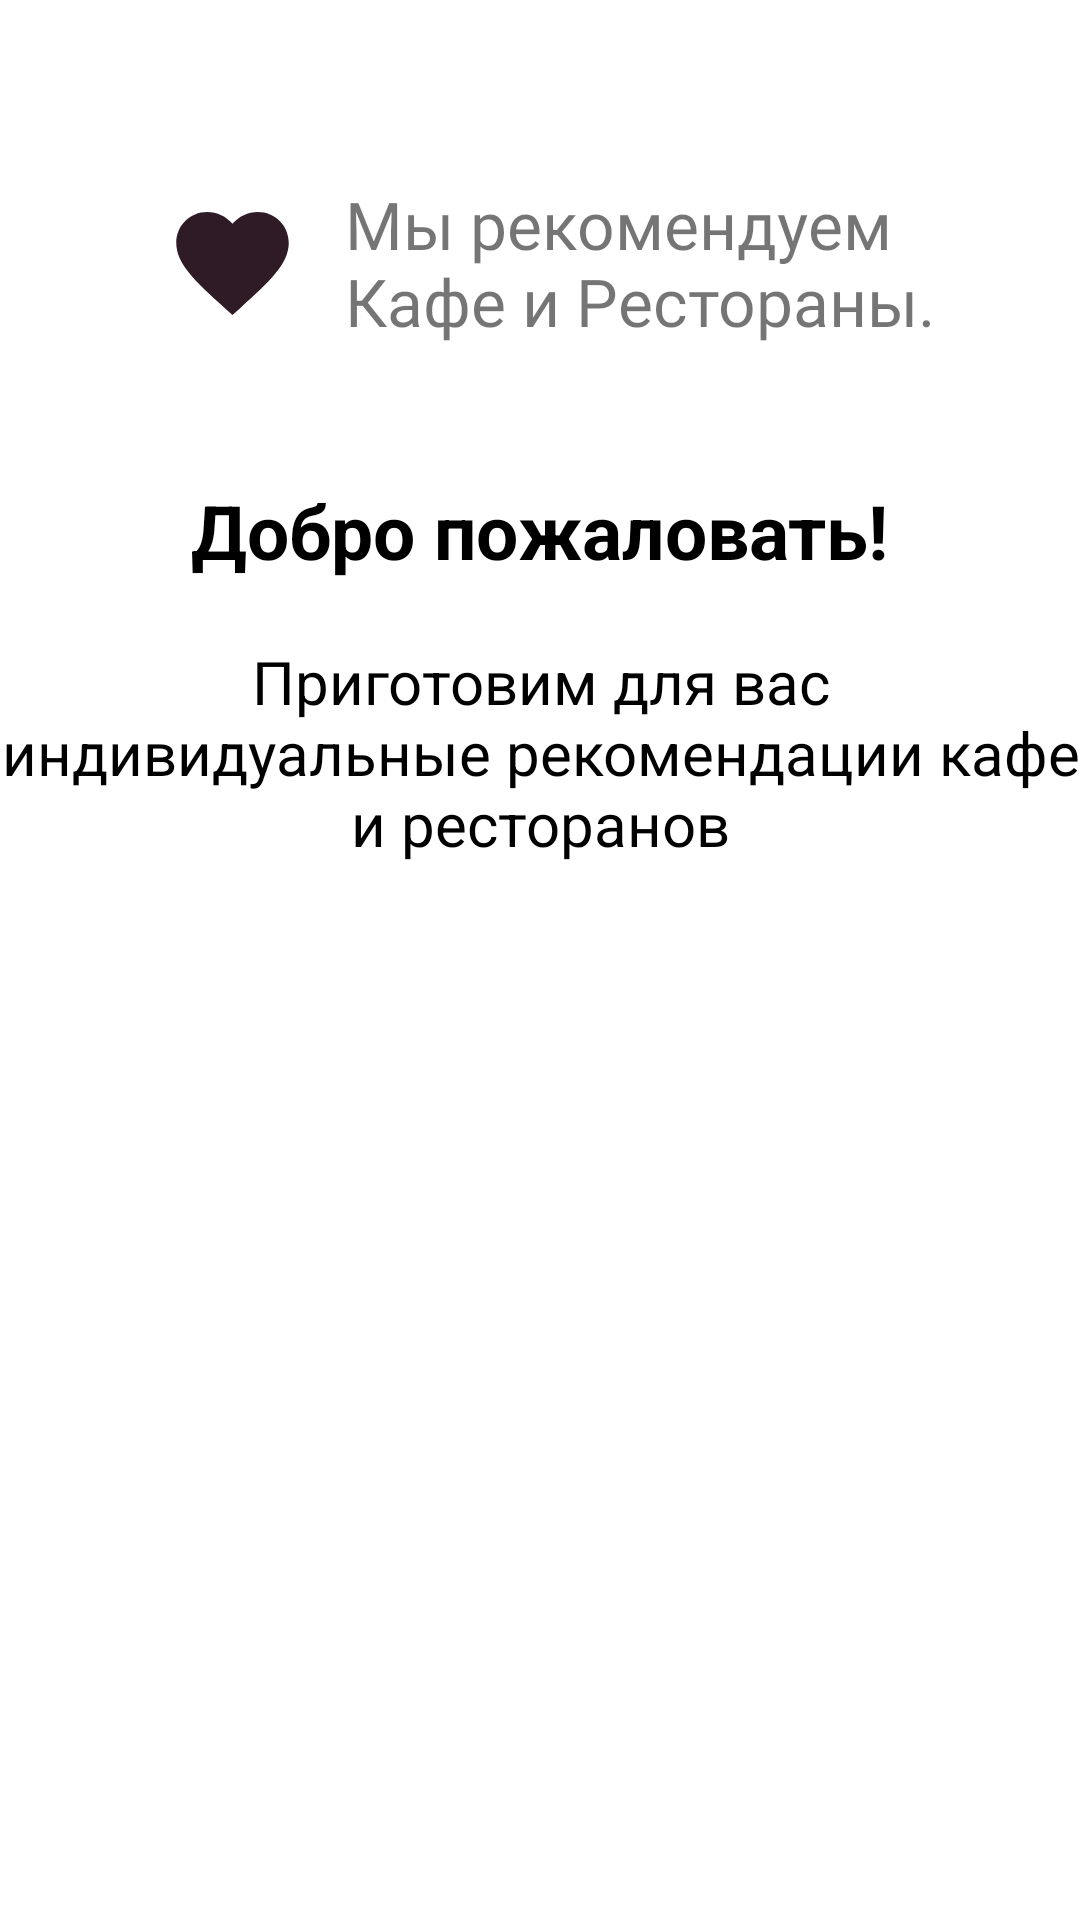

Named icons in this screenshot (1080*1920) and their centers, point (x, y):
fav nav: point (232, 263)
